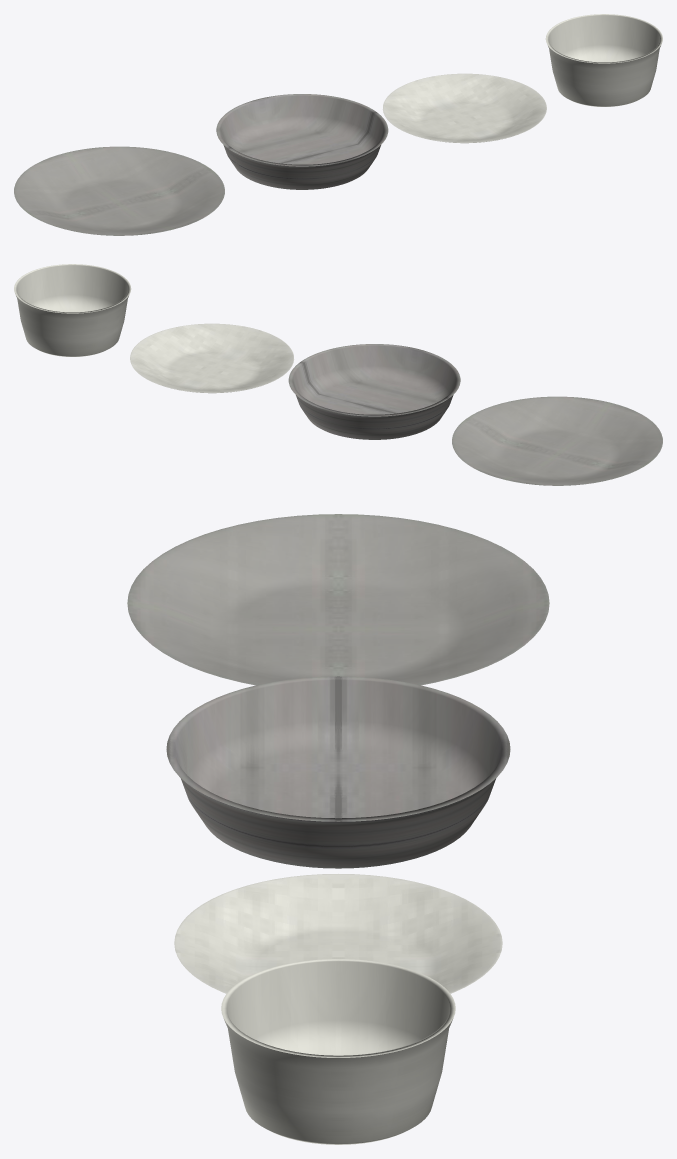
File: RAY-08.glb
3 views of the same model, one above another, from view 1: azimuth 30°, elevation 25°; view 2: azimuth 150°, elevation 25°; view 3: azimuth 270°, elevation 25° (orthographic). The views are drawn at different scales.
Size of the model in its own units: 0.926 by 0.07 by 0.27.
8 materials, 8 textured.
